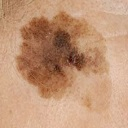Melanoma: (22, 15, 95, 95)
